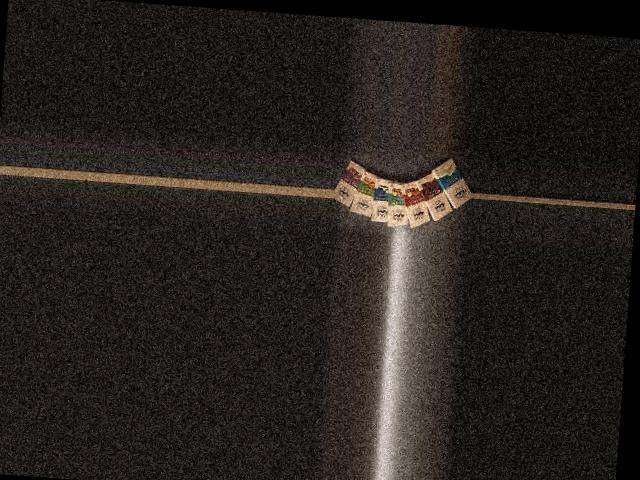chocolate: (429, 153, 473, 211)
